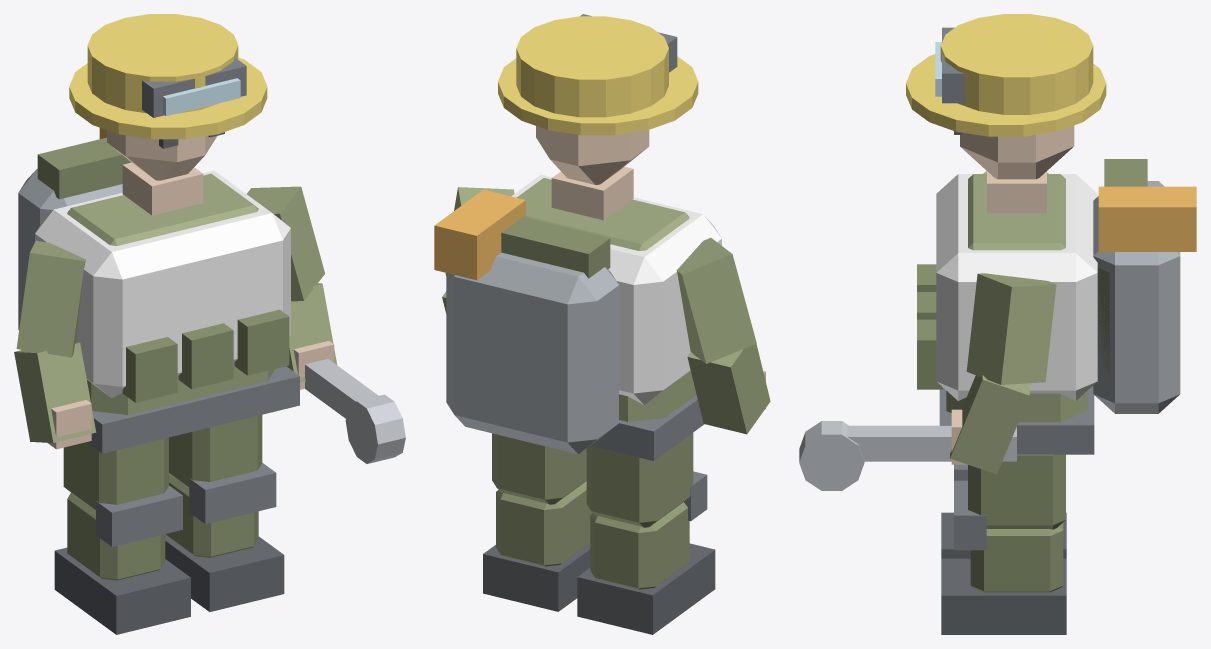
File: engineer.glb
3 renders of one model, left to right at view 1: azimuth 30°, elevation 25°; view 2: azimuth 150°, elevation 25°; view 3: azimuth 270°, elevation 25°, orthographic.
Visible parts, largest first — view 1: main, shinl, shinr, legl, legr; view 2: main, shinl, shinr, legl, legr; view 3: main, shinr, legr, shinl.
Part boxes in pixels (x1=…): main: x1=14, y1=14, x2=405, y2=463; shinl: x1=54, y1=485, x2=190, y2=634; shinr: x1=165, y1=463, x2=284, y2=611; legl: x1=63, y1=437, x2=168, y2=510; legr: x1=169, y1=415, x2=262, y2=487; main: x1=434, y1=14, x2=770, y2=460; shinl: x1=577, y1=471, x2=715, y2=634; shinr: x1=483, y1=481, x2=592, y2=611; legl: x1=586, y1=433, x2=693, y2=527; legr: x1=492, y1=433, x2=586, y2=504; main: x1=799, y1=14, x2=1196, y2=490; shinr: x1=941, y1=480, x2=1066, y2=634; legr: x1=968, y1=454, x2=1065, y2=529; shinl: x1=941, y1=464, x2=1066, y2=558.
Bounding box in the file's own units: 0.331 × 0.555 × 0.365.
